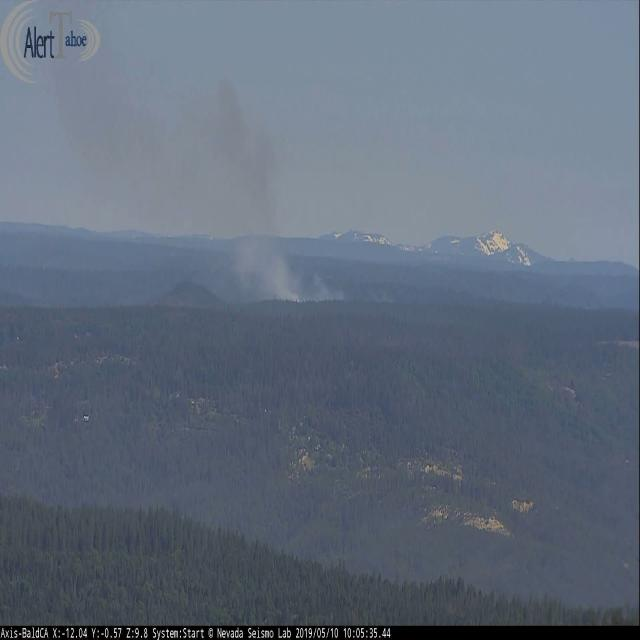smoke: (64, 72, 393, 308)
